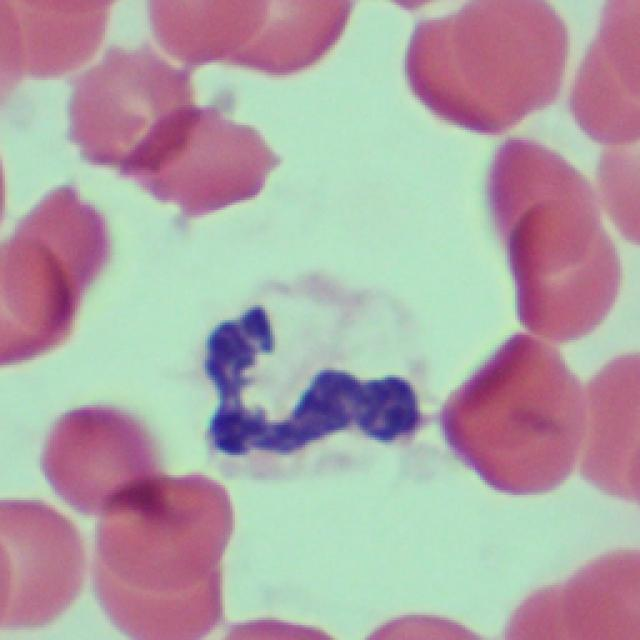RBC: (89, 462, 228, 639), (443, 326, 586, 490), (398, 0, 561, 127), (66, 4, 190, 168), (127, 79, 274, 217), (35, 391, 156, 526), (497, 212, 625, 339), (0, 185, 85, 373), (145, 0, 365, 72), (480, 552, 640, 640), (563, 350, 640, 500), (0, 492, 83, 629), (567, 0, 640, 145), (591, 106, 640, 239), (361, 608, 485, 640)
WBC: (161, 271, 454, 498)
